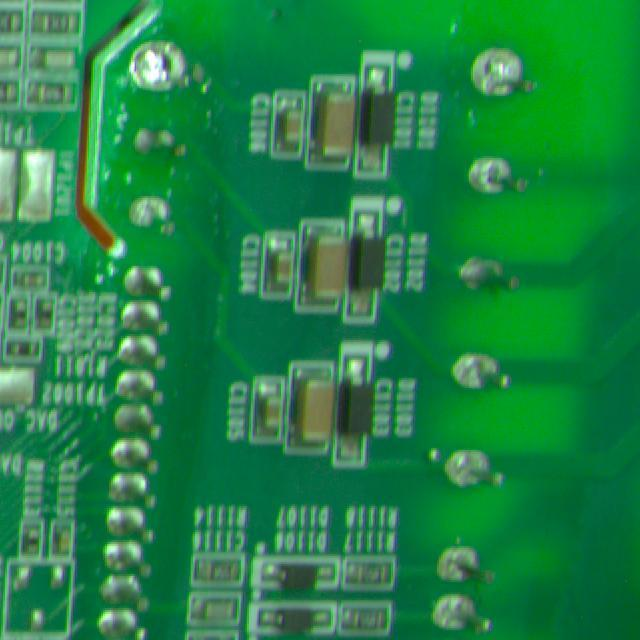Insufficient solder: (116, 31, 205, 102)
